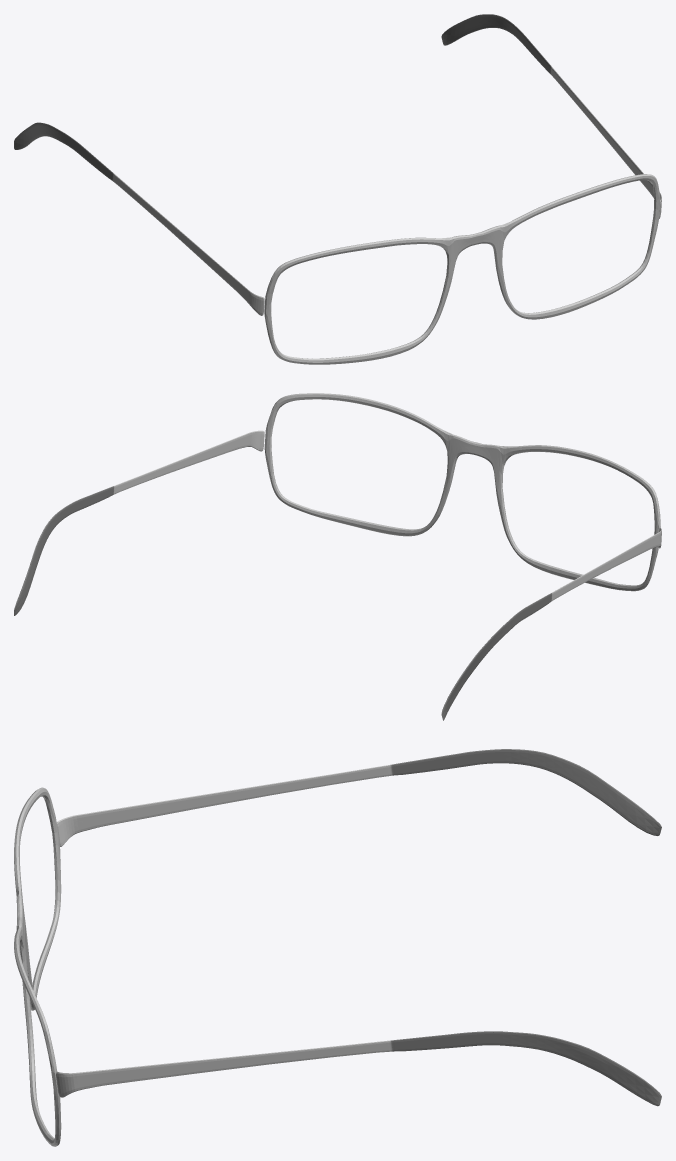
File: mhw_kwnet_at_optical_glasses.glb
3 views of the same model, one above another, from view 1: azimuth 30°, elevation 25°; view 2: azimuth 150°, elevation 25°; view 3: azimuth 270°, elevation 25° (orthographic). The views are drawn at different scales.
Visible parts, largest first — view 1: mhw_kwnet_at_optical_glasses; view 2: mhw_kwnet_at_optical_glasses; view 3: mhw_kwnet_at_optical_glasses.
Boxes of the visible parts, x1,y1,x2,y2 form: mhw_kwnet_at_optical_glasses: [14, 14, 661, 364]; mhw_kwnet_at_optical_glasses: [14, 393, 661, 720]; mhw_kwnet_at_optical_glasses: [14, 749, 661, 1146].
Bounding box in the file's own units: 0.1583 × 0.0422 × 0.1528.
1 material, 1 textured.
